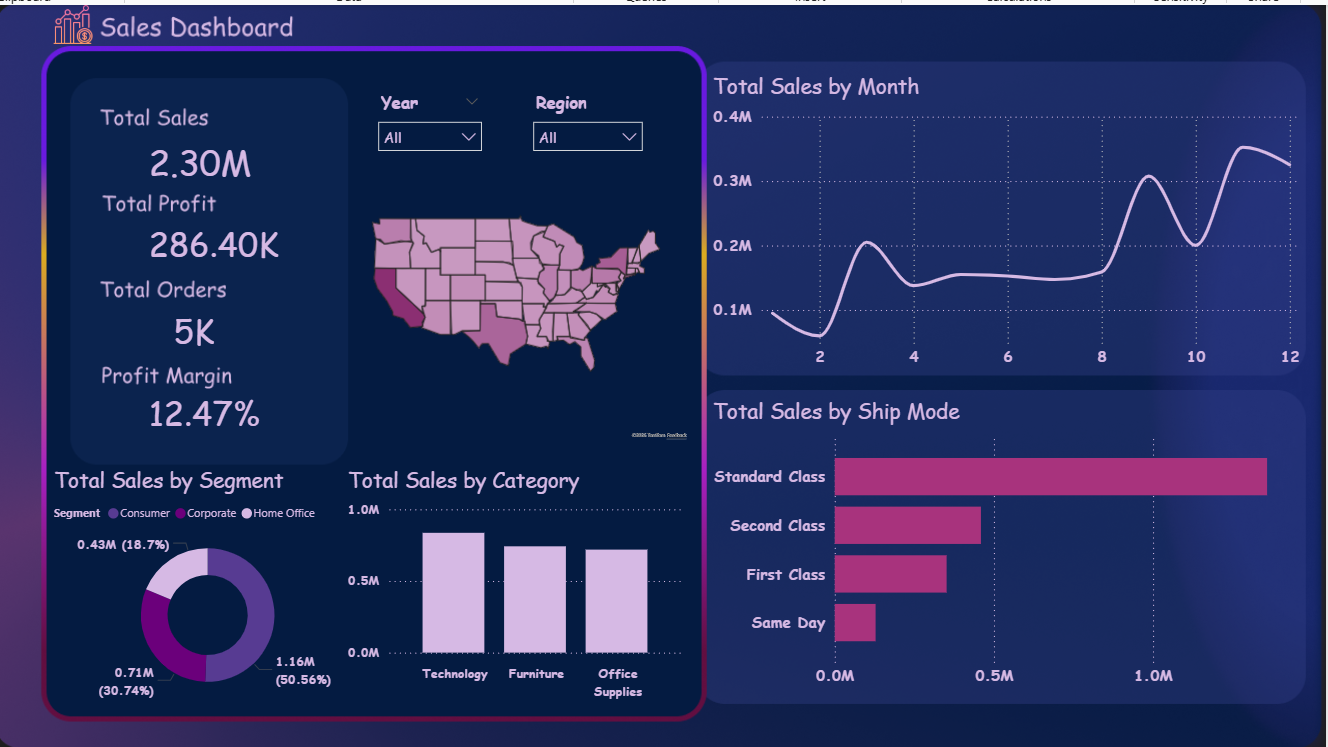

The page's visual inventory and layout, read from the dashboard file:
{"tool":"powerbi","page":{"name":"Page 1","canvas":[1280,720],"ordinal":0},"visuals":[{"type":"cardVisual","fields":{"Data":["Measures_T.Total Sales"]},"box":[114.3,115.7,172.9,68.6],"z":0},{"type":"cardVisual","fields":{"Data":["Measures_T.Total Profit"]},"box":[114.3,197.1,184.3,65.7],"z":1000},{"type":"cardVisual","fields":{"Data":["Measures_T.Total Orders"]},"box":[138.6,281.4,125.7,65.7],"z":2000},{"type":"cardVisual","fields":{"Data":["Measures_T.Profit Marign"]},"box":[114.3,360,180,65.7],"z":3000},{"type":"lineChart","fields":{"Category":["Dim Date.Month"],"Y":["Measures_T.Total Sales"]},"box":[682.9,64.3,577.1,295.7],"z":4000},{"type":"columnChart","fields":{"Category":["Dim Product.Category"],"Y":["Measures_T.Total Sales"]},"box":[330,444.3,334.3,234.3],"z":5000},{"type":"azureMap","fields":{"Category":["Dim Location.State"]},"box":[324.3,132.9,347.1,292.9],"z":6000},{"type":"barChart","fields":{"Category":["Dim Orders.Ship Mode"],"Y":["Measures_T.Total Sales"]},"box":[682.9,377.1,577.1,290],"z":7000},{"type":"donutChart","fields":{"Category":["Dim Customer.Segment"],"Y":["Measures_T.Total Sales"]},"box":[47.1,444.3,307.1,234.3],"z":8000},{"type":"slicer","fields":{"Values":["Dim Date.Year"]},"box":[354.3,78.6,120,71.4],"z":9000},{"type":"slicer","fields":{"Values":["Dim Location.Region"]},"box":[504.3,78.6,125.7,71.4],"z":10000},{"type":"image","box":[27.5,0,86.2,37.5],"z":11000}]}

Visuals, with their boxes on the page's 1280x720 design canvas (x1, y1, x2, y2). These are canvas units, not pixel positions in the 1328x747 screenshot, which may show the page scaled, cropped or inside an application window:
cardVisual - Measures_T.Total Sales: Rect(114, 116, 287, 184)
cardVisual - Measures_T.Total Profit: Rect(114, 197, 299, 263)
cardVisual - Measures_T.Total Orders: Rect(139, 281, 264, 347)
cardVisual - Measures_T.Profit Marign: Rect(114, 360, 294, 426)
lineChart - Dim Date.Month x Measures_T.Total Sales: Rect(683, 64, 1260, 360)
columnChart - Dim Product.Category x Measures_T.Total Sales: Rect(330, 444, 664, 679)
azureMap - Dim Location.State: Rect(324, 133, 671, 426)
barChart - Dim Orders.Ship Mode x Measures_T.Total Sales: Rect(683, 377, 1260, 667)
donutChart - Dim Customer.Segment x Measures_T.Total Sales: Rect(47, 444, 354, 679)
slicer - Dim Date.Year: Rect(354, 79, 474, 150)
slicer - Dim Location.Region: Rect(504, 79, 630, 150)
image: Rect(28, 0, 114, 38)
